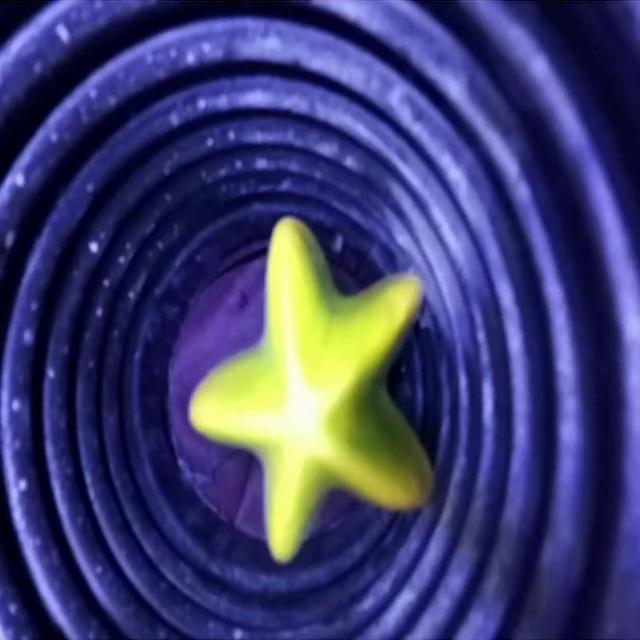obstacles: (193, 214, 435, 560)
